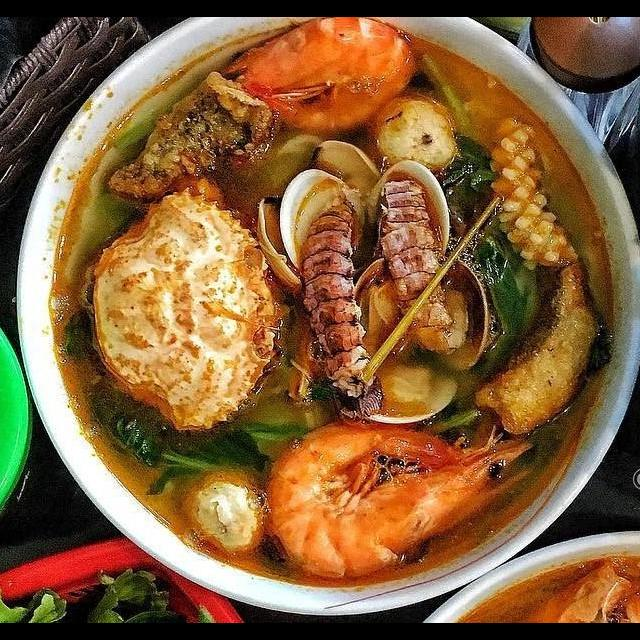ca: (470, 251, 618, 439), (102, 66, 288, 208)
muc: (482, 111, 584, 275)
tom: (256, 413, 536, 582), (214, 18, 424, 141)
tom tit: (290, 180, 390, 428), (372, 174, 477, 358)
